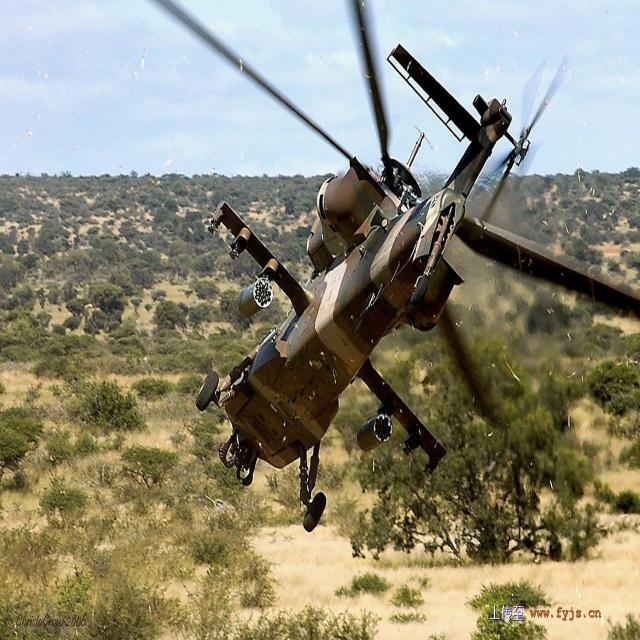MIL_HELO: (148, 0, 639, 524)
